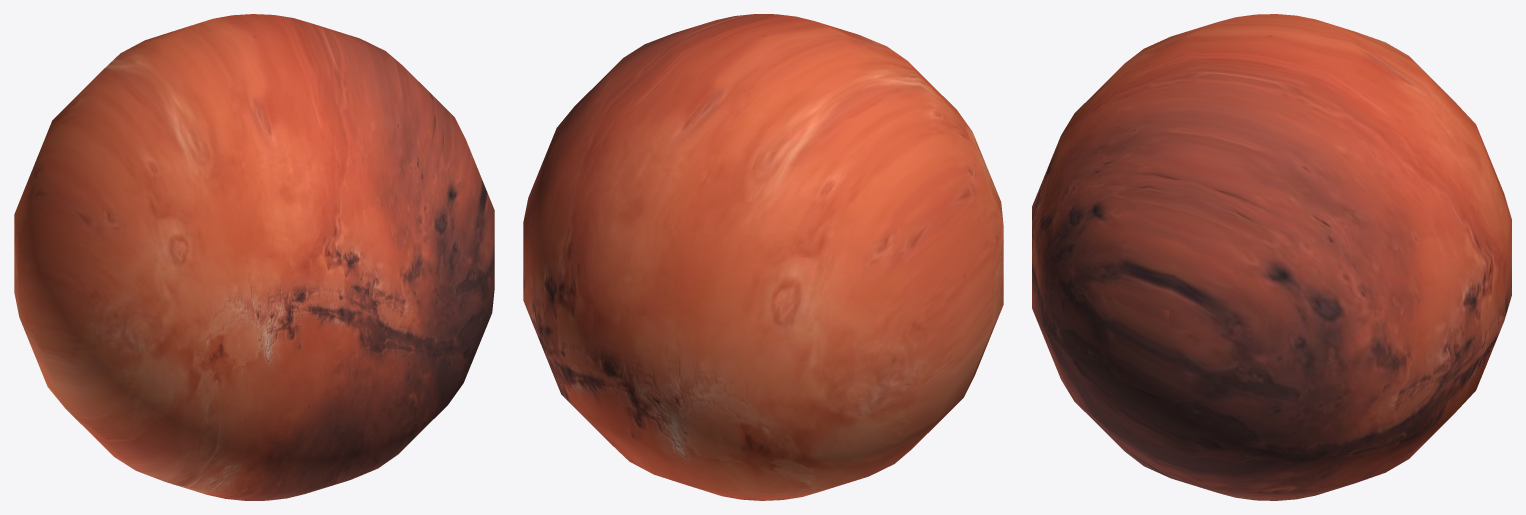
The model's file is mars.fbx.
The picture shows the model from 3 angles, left to right: view 1: azimuth 30°, elevation 25°; view 2: azimuth 150°, elevation 25°; view 3: azimuth 270°, elevation 25°; orthographic projection.
Parts seen in each view (by area): view 1: Sphere.005; view 2: Sphere.005; view 3: Sphere.005.
Part boxes in pixels (bbox=[...]): Sphere.005: bbox=[14, 14, 494, 500]; Sphere.005: bbox=[523, 14, 1003, 500]; Sphere.005: bbox=[1032, 14, 1511, 500].
Bounding box in the file's own units: 458 × 466 × 457.
